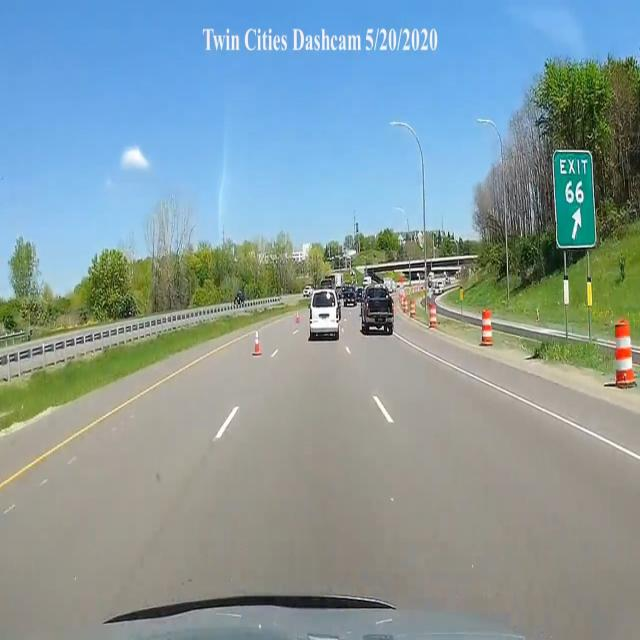Traffic Cone: (250, 328, 266, 356)
